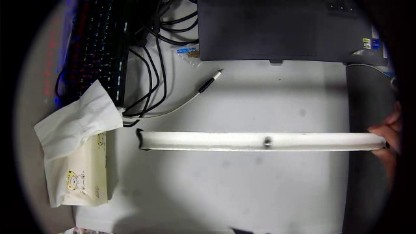gangzhu: (263, 137, 271, 146)
